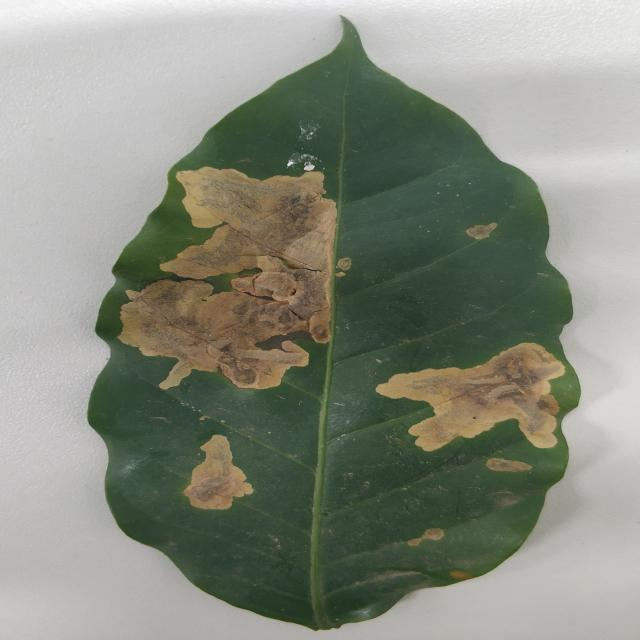Plaga-Minador: (85, 19, 583, 634)
